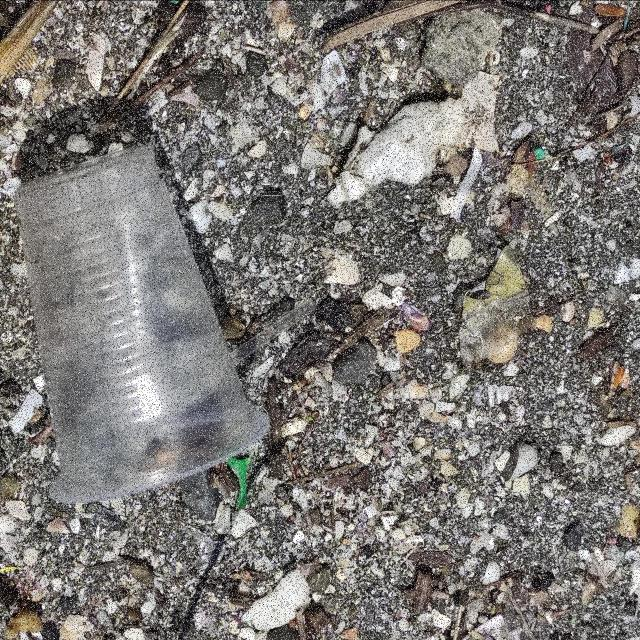plastic_waste: (19, 146, 275, 506), (459, 244, 531, 361)
